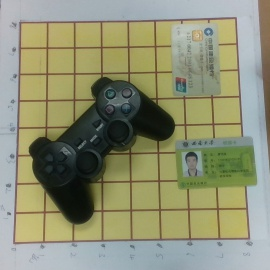card: (174, 139, 258, 190), (170, 23, 222, 96)
remote: (28, 76, 175, 225)
